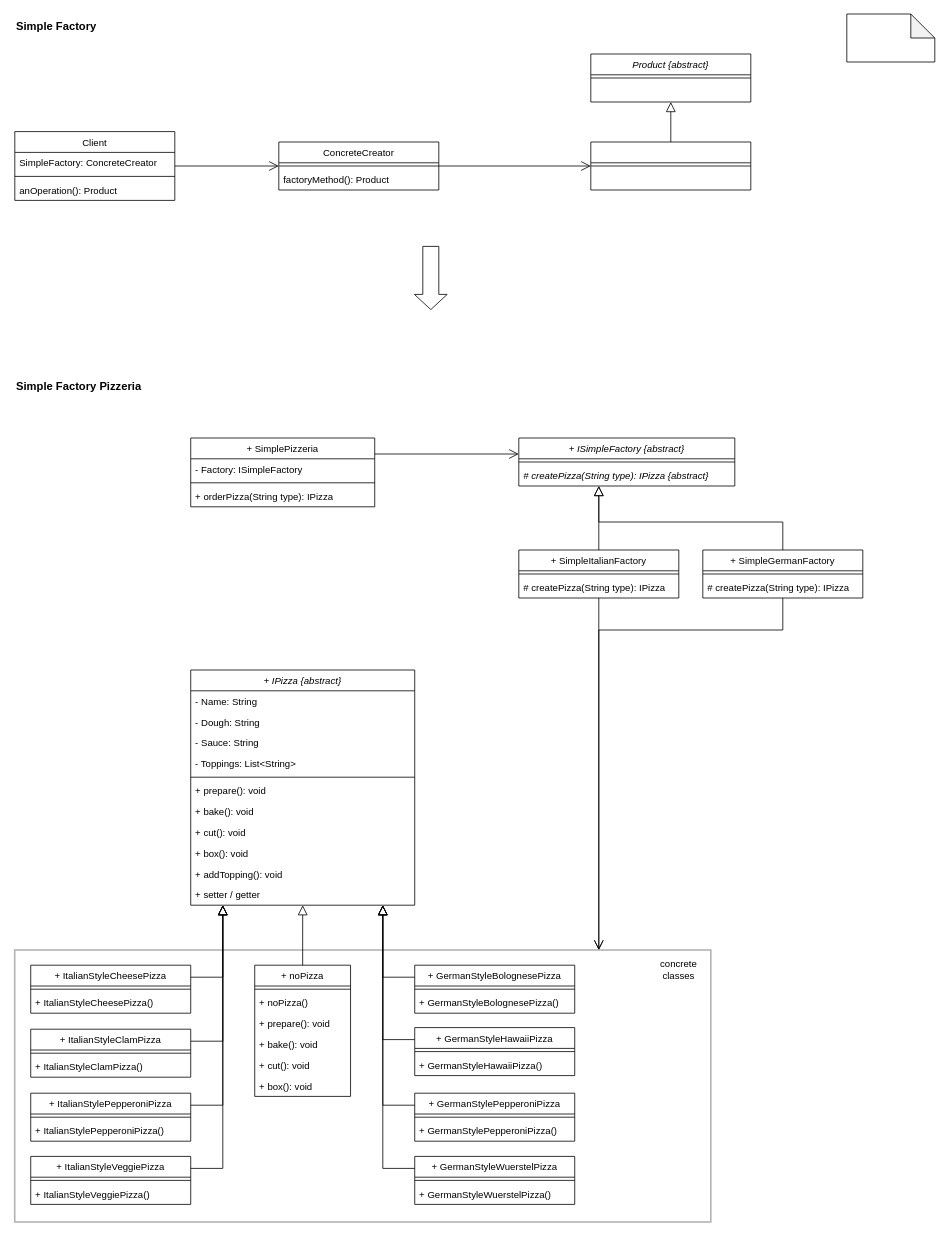
Some shapes in this 949 by 1237 pixel diagram are drawn without their labels. The centre of each missing label's shape, as x and y in pixels:
"+ puplic - private # protected" goes at point 890,37.
"ConcreteProduct" goes at point 670,165.
